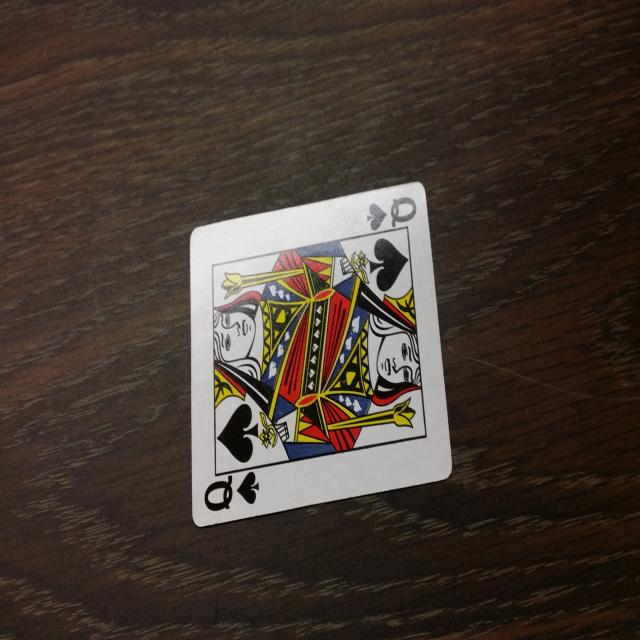Qs: (201, 461, 266, 519), (362, 190, 419, 239)
